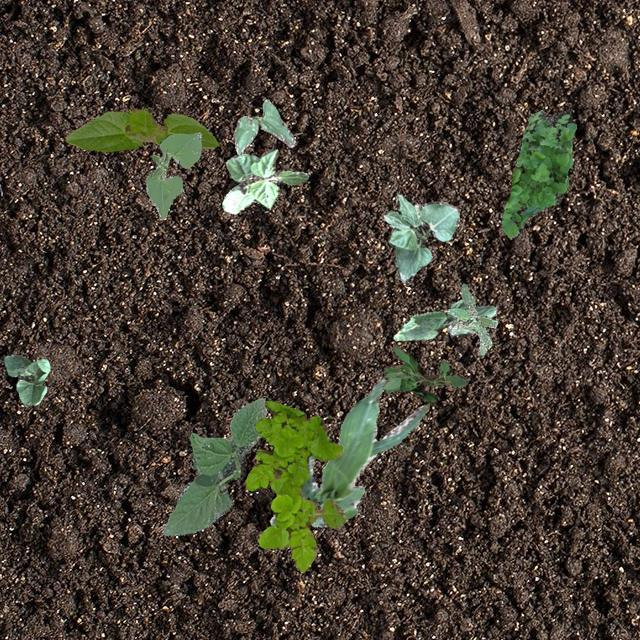crop: (268, 376, 428, 526), (162, 398, 266, 534), (382, 192, 458, 282), (66, 108, 218, 150), (222, 148, 306, 212), (144, 132, 200, 218), (392, 298, 496, 340), (232, 98, 294, 154), (2, 354, 48, 406)
weed: (244, 400, 346, 570), (500, 108, 576, 236), (382, 344, 466, 402), (446, 282, 496, 354)
